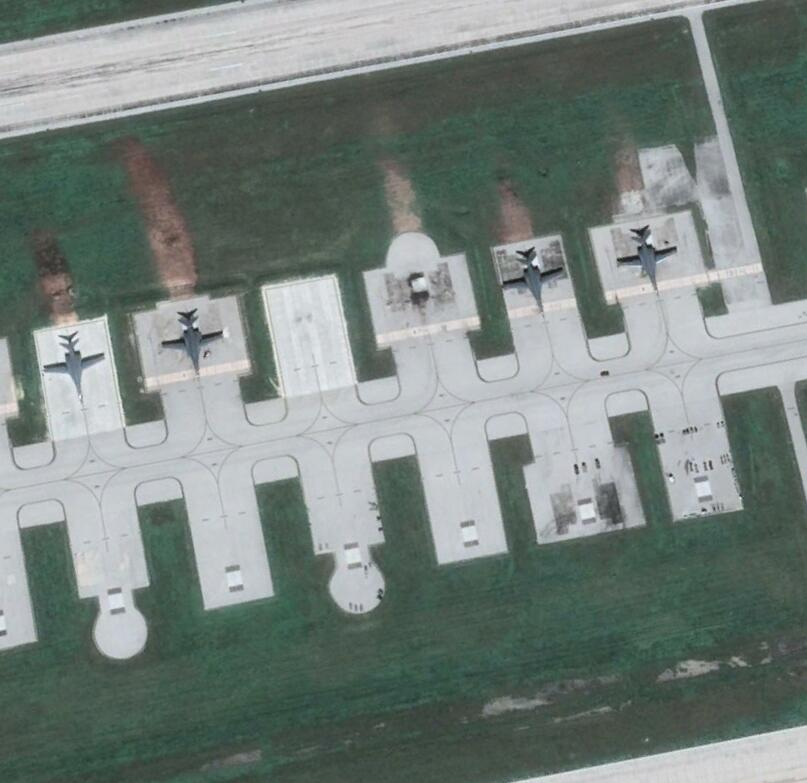A10: (43, 334, 109, 402), (500, 247, 568, 312), (617, 223, 682, 289), (161, 309, 226, 374)
